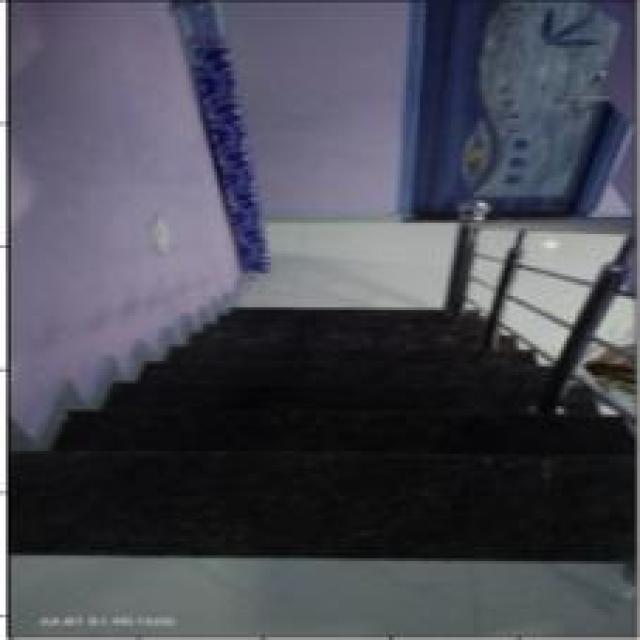stair: (57, 327, 576, 550)
